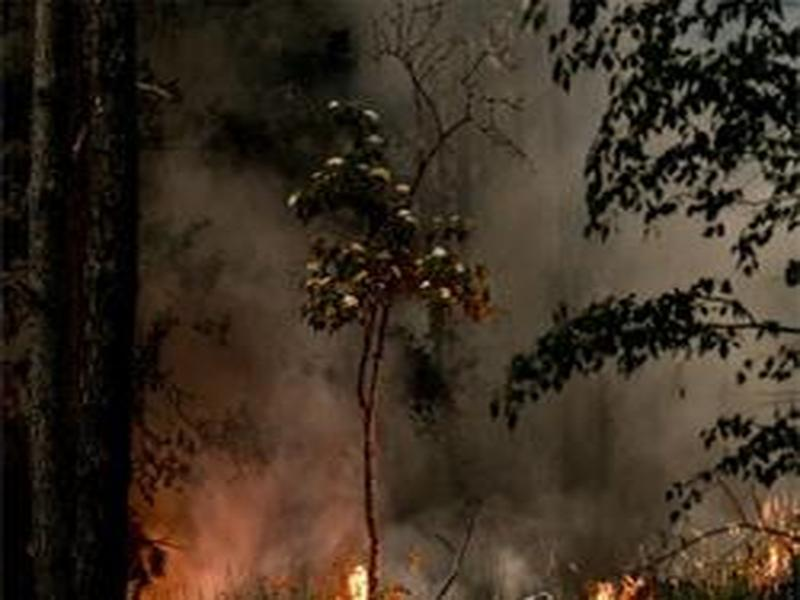FIRE: (118, 493, 800, 600)
